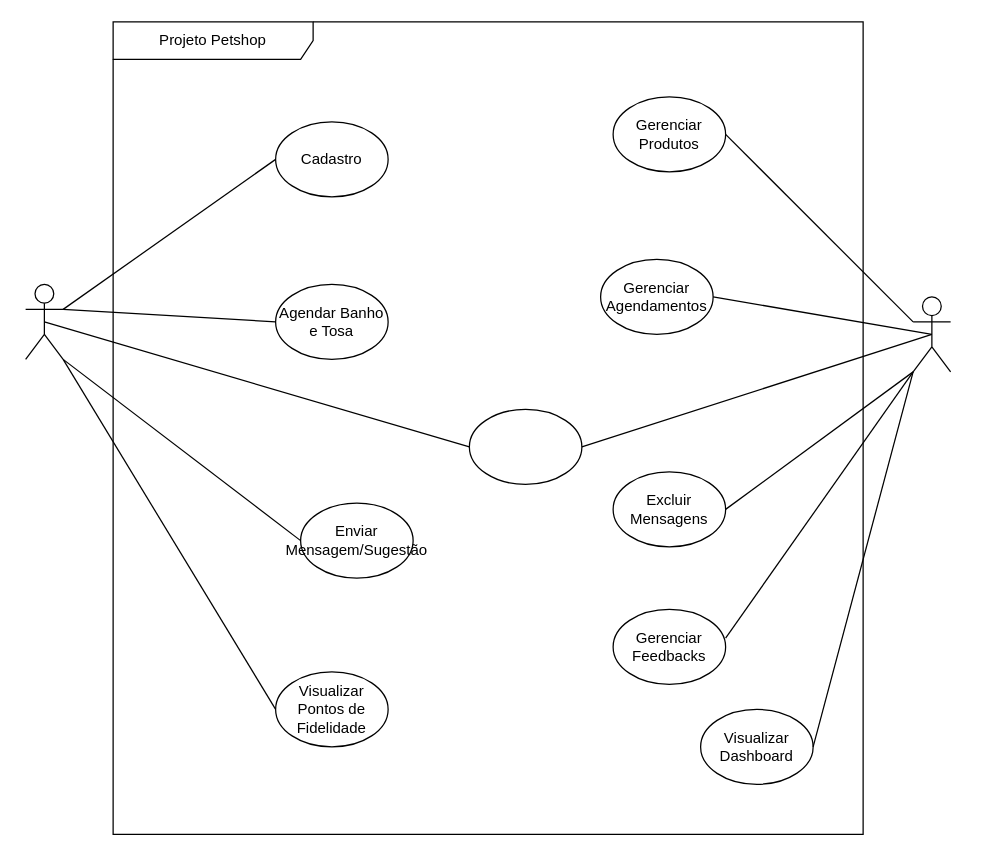
Some shapes in this 1000 by 856 pixel diagram are drawn without their labels. Each missing label, with the centre of its shape:
"Administrador" goes at pixel 931 334.
"Cliente" goes at pixel 43 321.
"Login" goes at pixel 525 446.
